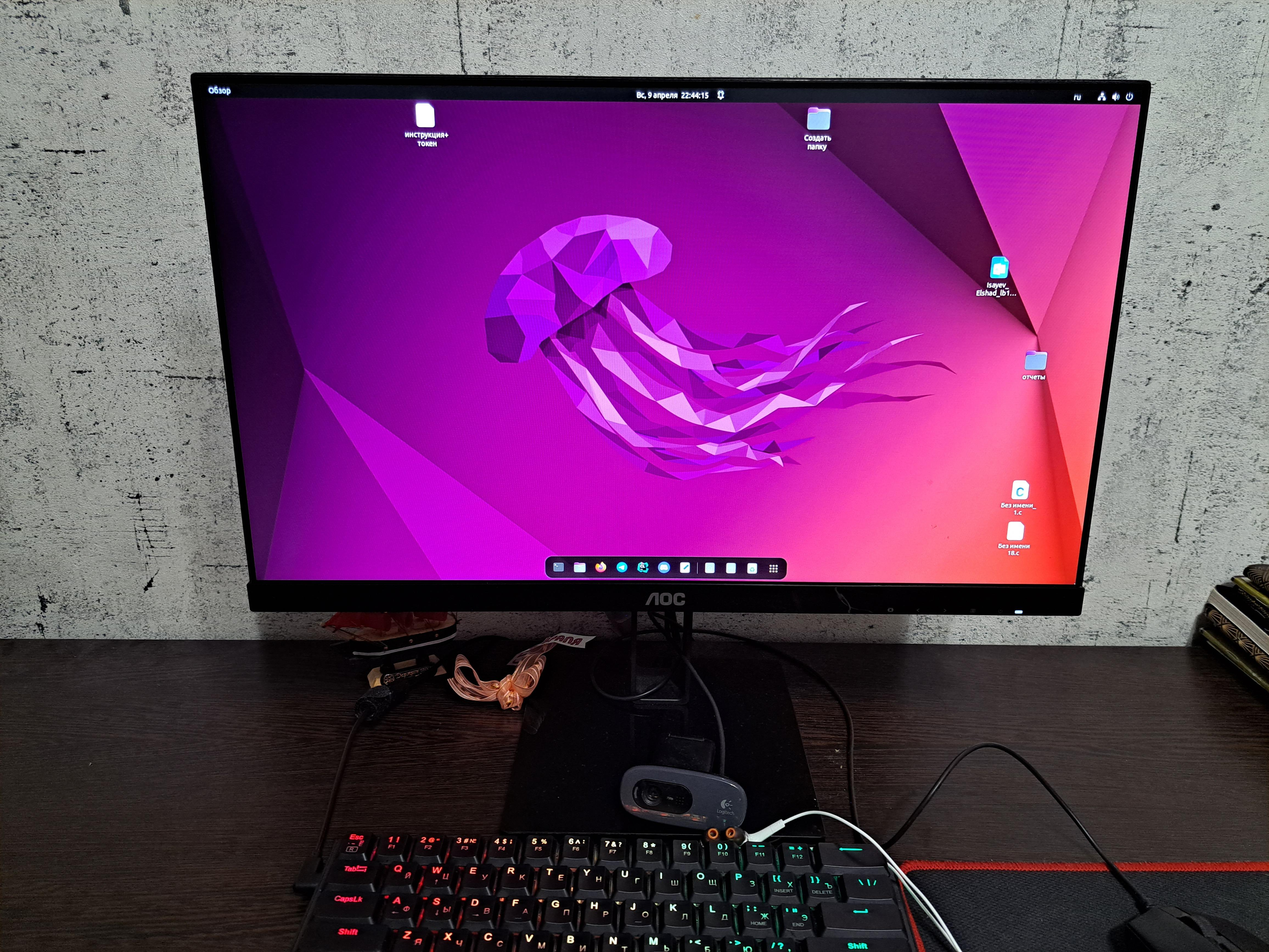monitor: (188, 66, 1153, 619)
